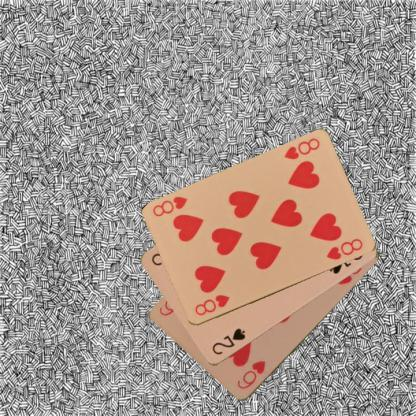2s: (209, 326, 247, 356)
6h: (235, 358, 267, 391)
8h: (282, 136, 322, 161), (192, 292, 230, 317)
